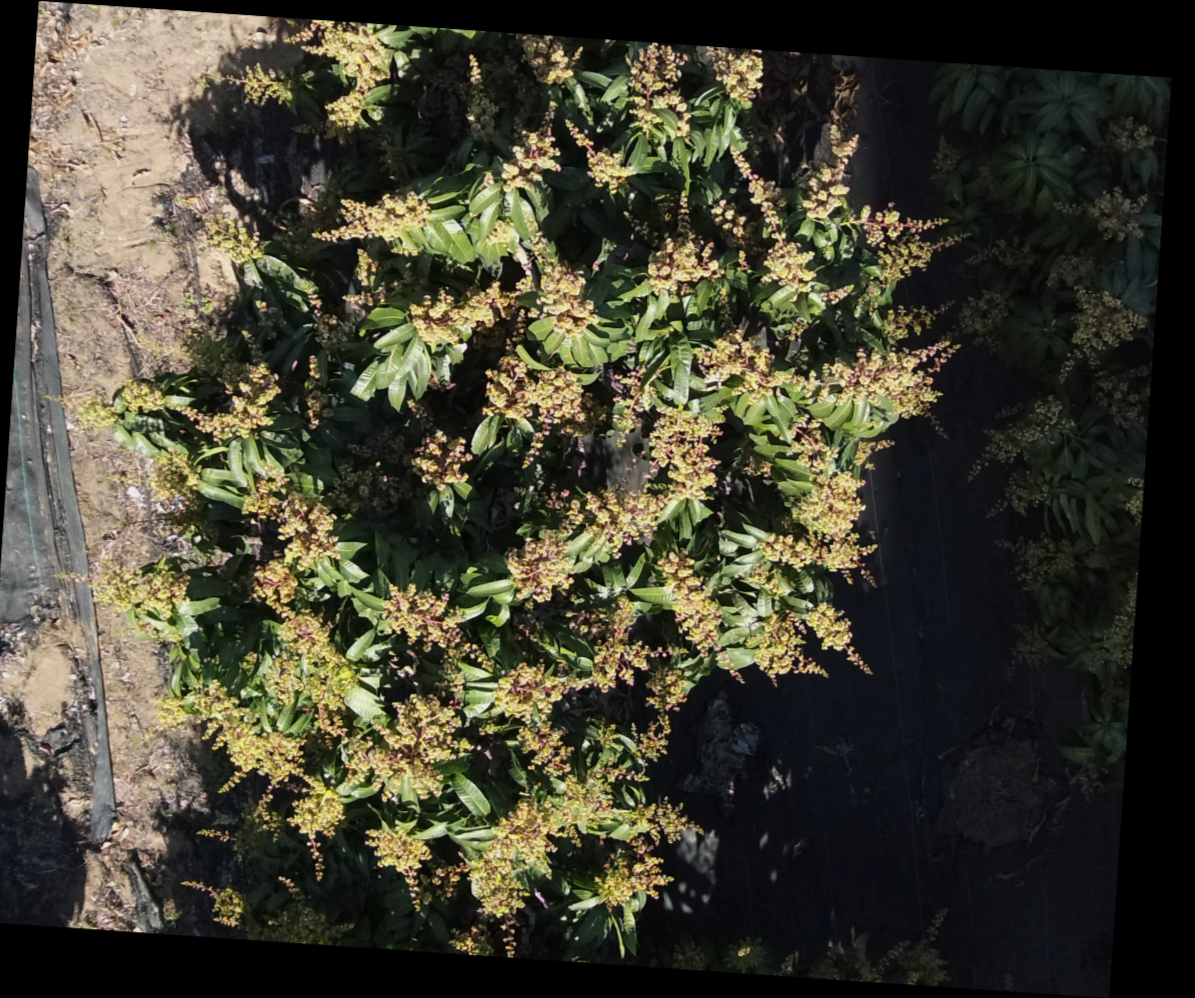flowers: (472, 593, 690, 943), (588, 404, 718, 556), (765, 417, 878, 575), (241, 478, 336, 613), (347, 692, 469, 797), (695, 330, 827, 427), (380, 586, 489, 692), (265, 611, 358, 734), (191, 686, 306, 784), (287, 22, 389, 127), (829, 335, 954, 417), (483, 354, 586, 453), (739, 172, 818, 289), (970, 393, 1069, 484), (363, 826, 467, 909), (508, 488, 580, 602), (408, 279, 516, 348), (185, 362, 279, 440), (856, 209, 951, 285), (654, 551, 722, 654), (314, 189, 430, 244), (625, 43, 692, 136), (91, 557, 188, 618), (197, 792, 285, 858), (288, 779, 343, 879), (1071, 289, 1145, 361), (755, 613, 828, 683), (804, 123, 856, 221), (563, 123, 635, 193), (536, 261, 601, 338), (647, 232, 722, 295), (247, 899, 352, 944), (803, 604, 873, 671), (1003, 534, 1075, 591), (729, 153, 785, 226), (502, 126, 561, 193), (311, 289, 372, 350), (411, 430, 471, 491), (1092, 364, 1149, 428), (904, 907, 948, 986), (704, 48, 762, 105), (1086, 187, 1146, 241), (461, 55, 499, 140), (517, 36, 580, 84), (1104, 571, 1134, 667), (180, 882, 245, 926), (609, 368, 645, 447), (227, 63, 293, 106), (205, 217, 265, 263), (763, 238, 815, 290), (149, 452, 198, 503), (958, 289, 1007, 339), (304, 357, 334, 430), (1041, 248, 1095, 288), (1004, 469, 1049, 516), (324, 87, 363, 141), (1104, 116, 1155, 154), (1013, 621, 1053, 668), (882, 306, 934, 341), (745, 562, 792, 598), (709, 200, 746, 244), (75, 396, 120, 430), (121, 380, 164, 412), (156, 694, 191, 729), (933, 136, 961, 179), (854, 438, 893, 468), (523, 425, 548, 469), (715, 650, 745, 683), (355, 249, 377, 287), (1125, 478, 1142, 525), (486, 220, 515, 246), (742, 454, 771, 477), (821, 284, 852, 305), (161, 898, 180, 922), (276, 876, 298, 894), (307, 356, 320, 380), (482, 172, 494, 188), (253, 300, 268, 312)
